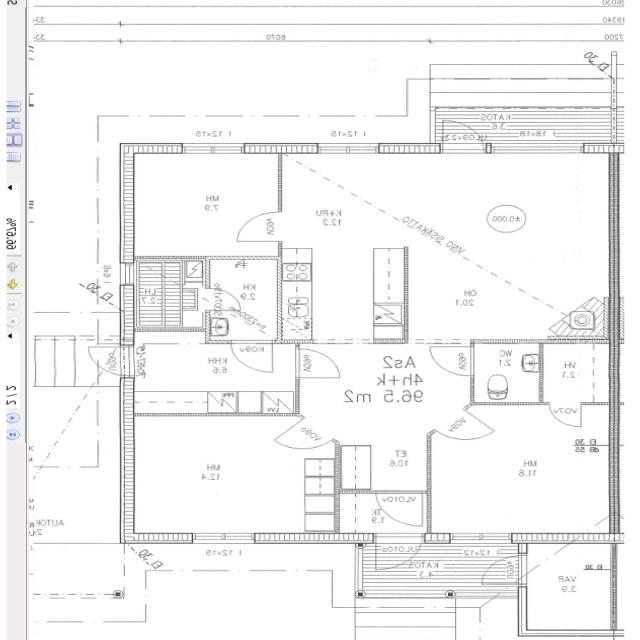door: (435, 408, 496, 452), (274, 418, 335, 462), (376, 533, 422, 576), (80, 346, 136, 376), (377, 490, 422, 526), (442, 114, 483, 153), (232, 339, 273, 373), (479, 556, 528, 584), (236, 212, 282, 241), (431, 346, 475, 376), (296, 349, 341, 378), (204, 288, 242, 311), (550, 402, 581, 427)
